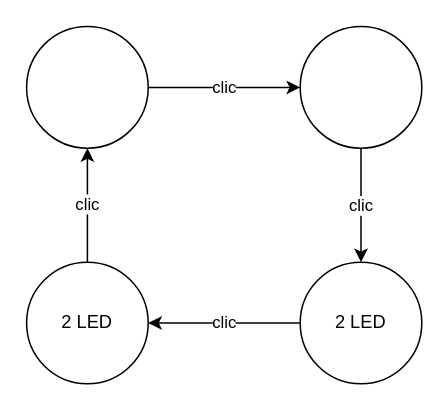
Image size: 448x410. Some labels were removed from this diagram. The centre of each missing label's shape, as x and y in pixels:
1 LED: (x=360, y=86)
Éteint: (x=86, y=86)
